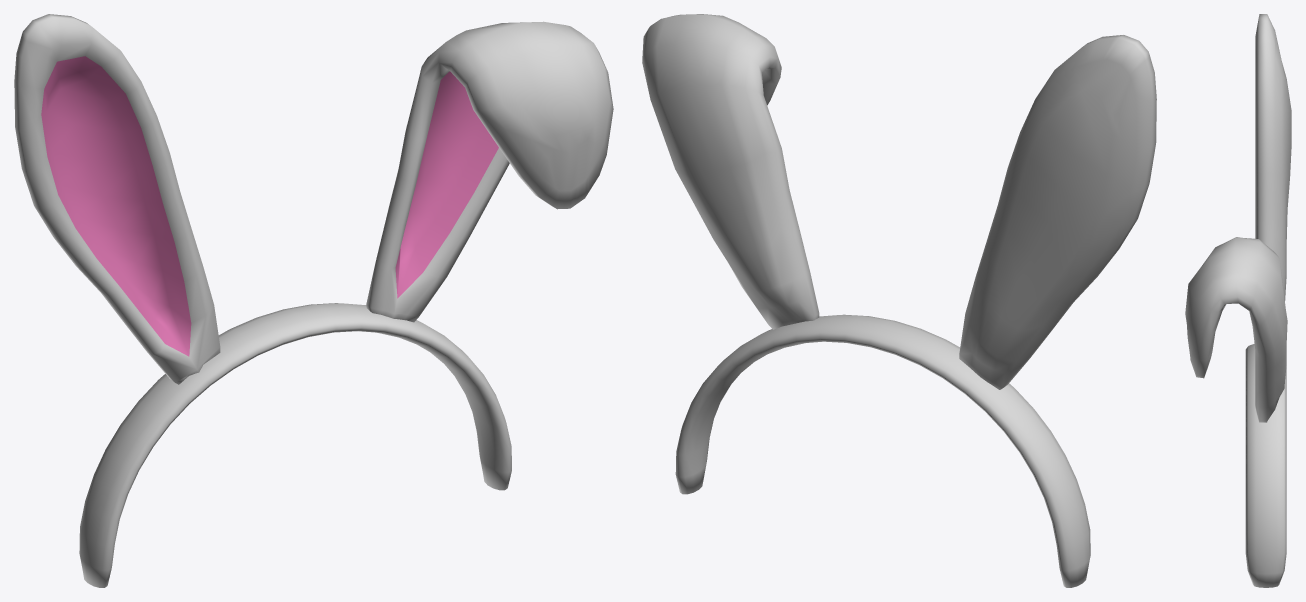
Rendered from Hat_BunnyEars.fbx.
3 views of the same model, side by side, from view 1: azimuth 30°, elevation 25°; view 2: azimuth 150°, elevation 25°; view 3: azimuth 270°, elevation 25° (orthographic). The views are drawn at different scales.
Parts seen in each view (by area): view 1: BunnyEars; view 2: BunnyEars; view 3: BunnyEars.
Part boxes in pixels (x1,y1,x2,y2): BunnyEars: (14,14,613,587); BunnyEars: (642,14,1156,587); BunnyEars: (1185,14,1291,587).
Size of the model in its own units: 416 by 414 by 97.
